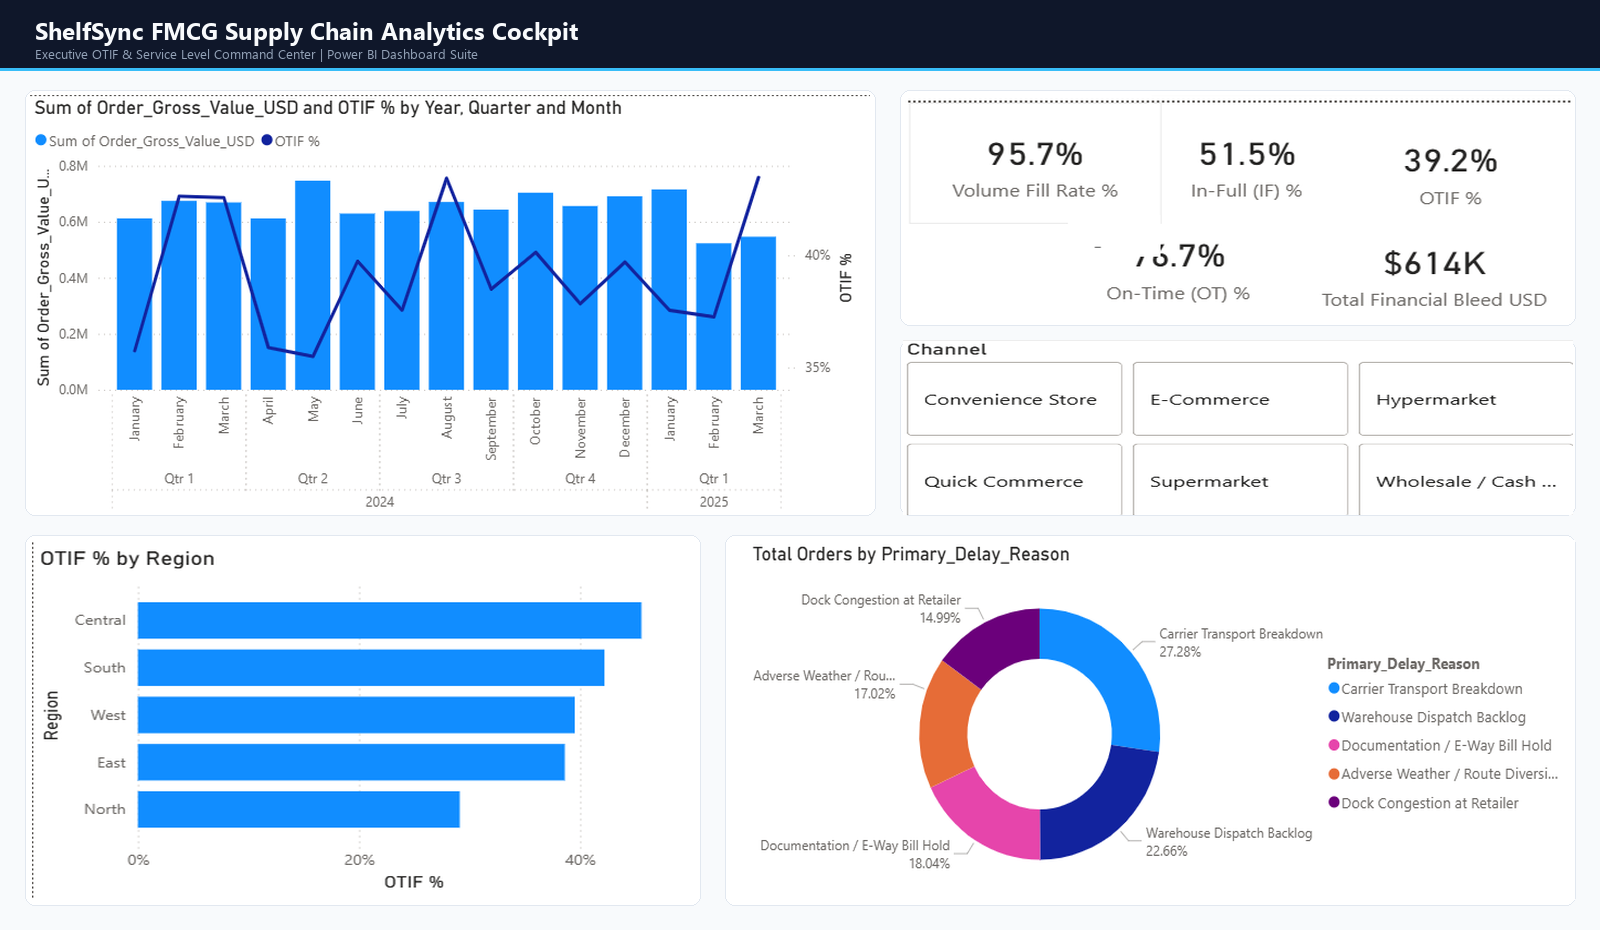

The page's visual inventory and layout, read from the dashboard file:
{"tool":"powerbi","page":{"name":"Page 1","canvas":[1280,720],"ordinal":0},"visuals":[{"type":"lineClusteredColumnComboChart","fields":{"Y":["Sum(fact_orders.Order_Gross_Value_USD)"],"Category":["dim_date.Month_Year.Variation.Date Hierarchy.Year","dim_date.Month_Year.Variation.Date Hierarchy.Quarter","dim_date.Month_Year.Variation.Date Hierarchy.Month"],"Y2":["_Measures.OTIF %"]},"box":[0,0,753.3,400.7],"z":0},{"type":"card","fields":{"Values":["_Measures.On-Time (OT) %"]},"box":[849.4,97.4,231.9,102.9],"z":1000},{"type":"card","fields":{"Values":["_Measures.In-Full (IF) %"]},"box":[916.6,0,207.2,111.1],"z":2000},{"type":"card","fields":{"Values":["_Measures.Volume Fill Rate %"]},"box":[753.3,0,199,111.1],"z":3000},{"type":"card","fields":{"Values":["_Measures.Total Financial Bleed USD"]},"box":[1056.6,111.1,223.7,89.2],"z":4000},{"type":"clusteredBarChart","fields":{"Category":["dim_warehouses.Region"],"Y":["_Measures.OTIF %"]},"box":[0,400.7,513.2,319.7],"z":5000},{"type":"card","fields":{"Values":["_Measures.OTIF %"]},"box":[1081.3,1.4,199,122.1],"z":5001},{"type":"donutChart","fields":{"Category":["fact_orders.Primary_Delay_Reason"],"Y":["_Measures.Total Orders"]},"box":[513.2,400.7,767.1,319.7],"z":5002},{"type":"advancedSlicerVisual","fields":{"Values":["dim_customers.Channel"]},"box":[760.2,200.3,520.1,200.3],"z":5003}]}

Visuals, with their boxes on the page's 1280x720 design canvas (x1, y1, x2, y2). These are canvas units, not pixel positions in the 1600x930 screenshot, which may show the page scaled, cropped or inside an application window:
lineClusteredColumnComboChart - Sum(fact_orders.Order_Gross_Value_USD) x dim_date.Month_Year.Variation.Date Hierarchy.Year: 0, 0, 753, 401
card - _Measures.On-Time (OT) %: 849, 97, 1081, 200
card - _Measures.In-Full (IF) %: 917, 0, 1124, 111
card - _Measures.Volume Fill Rate %: 753, 0, 952, 111
card - _Measures.Total Financial Bleed USD: 1057, 111, 1280, 200
clusteredBarChart - dim_warehouses.Region x _Measures.OTIF %: 0, 401, 513, 720
card - _Measures.OTIF %: 1081, 1, 1280, 124
donutChart - fact_orders.Primary_Delay_Reason x _Measures.Total Orders: 513, 401, 1280, 720
advancedSlicerVisual - dim_customers.Channel: 760, 200, 1280, 401
